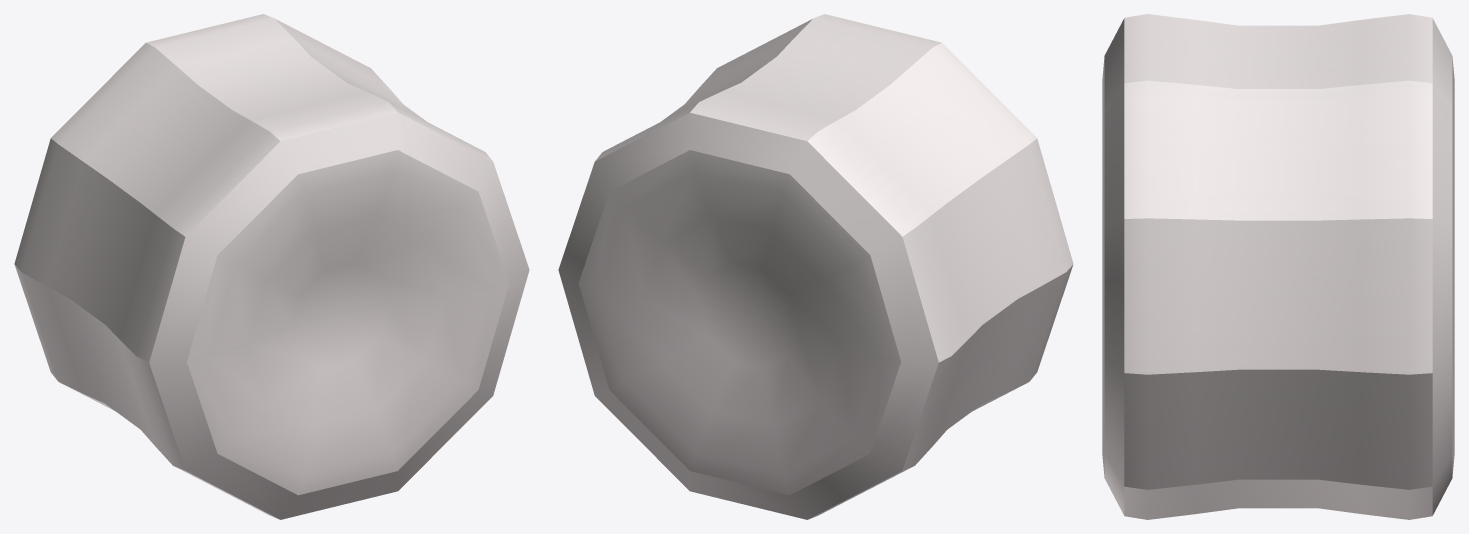
The model's file is HPart_MallowWhite_Whole.fbx.
The picture shows the model from 3 angles, left to right: view 1: azimuth 30°, elevation 25°; view 2: azimuth 150°, elevation 25°; view 3: azimuth 270°, elevation 25°; orthographic projection. The views are drawn at different scales.
Parts seen in each view (by area): view 1: mallow; view 2: mallow; view 3: mallow.
Boxes of the visible parts, box(x1,y1,x2,y2) form: mallow: box(14, 14, 529, 519); mallow: box(558, 14, 1073, 519); mallow: box(1102, 14, 1454, 519).
Bounding box in the file's own units: 0.5883 × 0.5595 × 0.4069.
